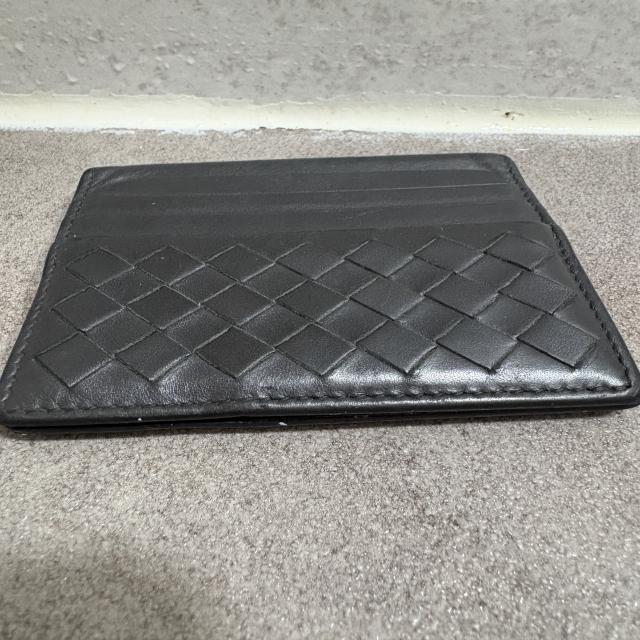wallet: (0, 152, 640, 442)
